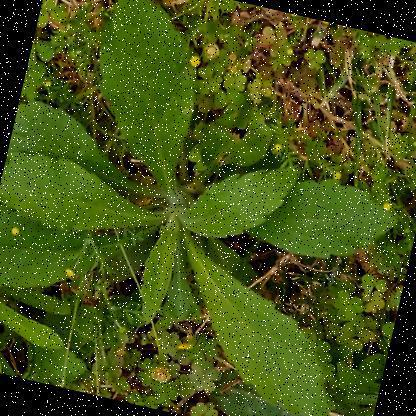Weeds: (0, 0, 415, 415), (0, 246, 83, 386)
